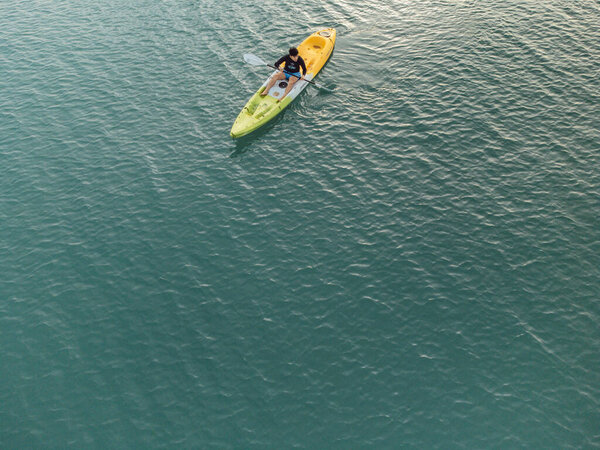kayaker: (228, 26, 340, 141)
